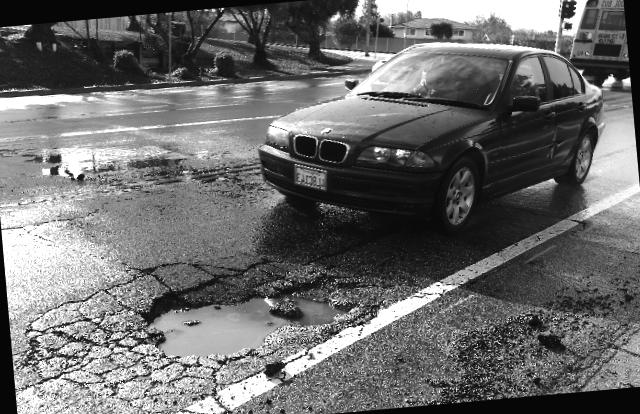Pothole: (132, 254, 378, 404)
